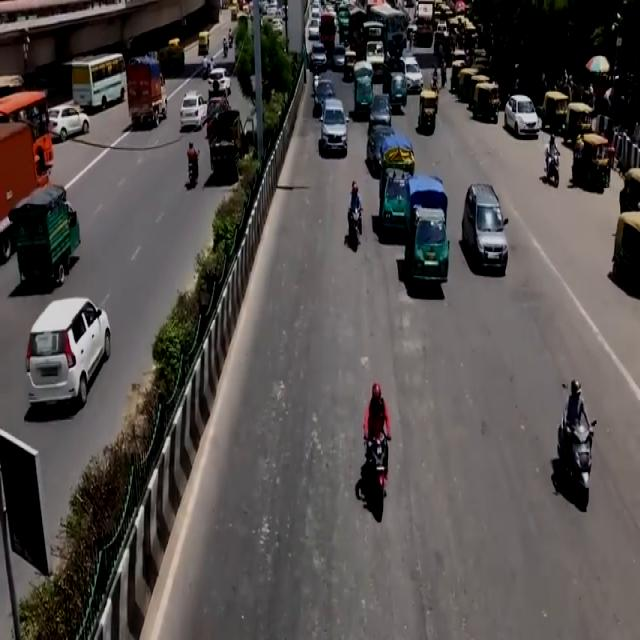BUS: (364, 4, 405, 62)
MOTORCYCLE: (564, 420, 595, 513), (366, 432, 391, 522), (349, 210, 362, 254)
TRUCK: (382, 134, 417, 239)
